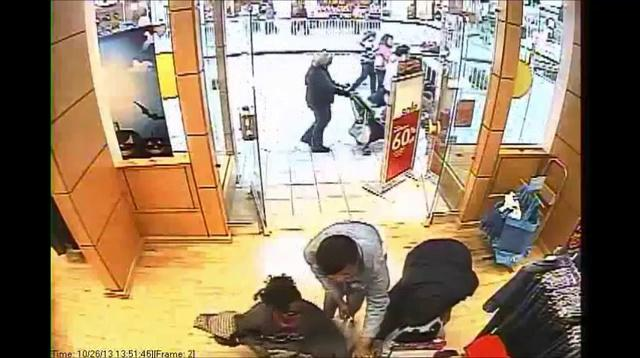Regular: (291, 210, 390, 295), (300, 44, 350, 162)
Shoplifting: (364, 234, 477, 358), (228, 267, 333, 358)
